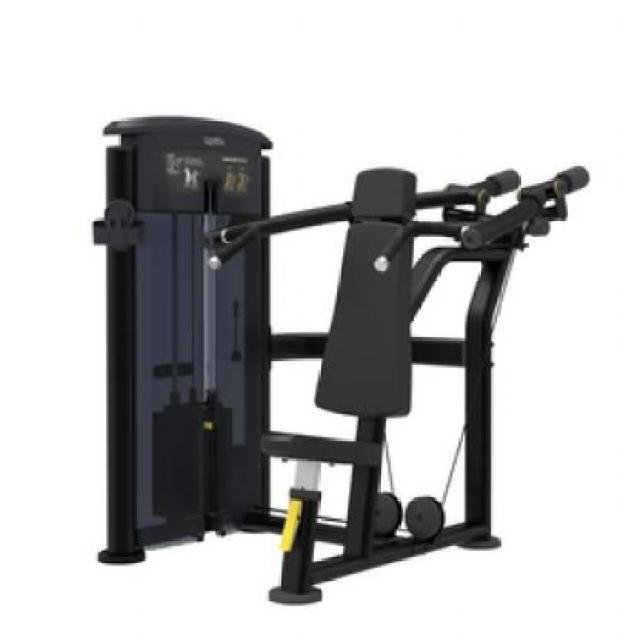shoulder press machine: (94, 108, 591, 606)
